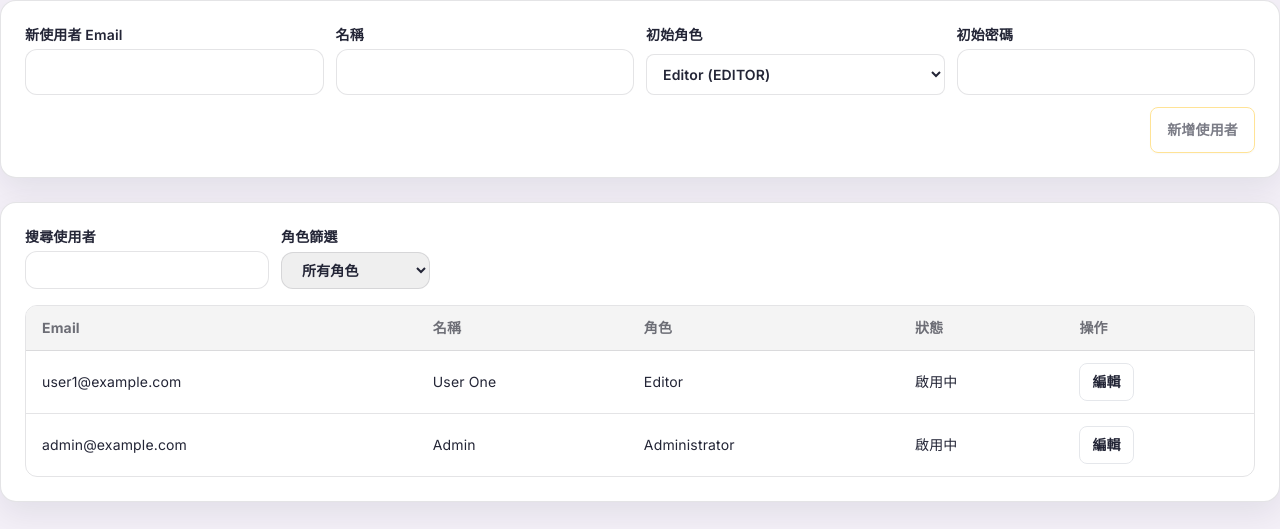
Test: UserAdminClient › 依姓名／Email 搜尋並依角色篩選列表
Step 1. Type "admin@" into the search field labelled "搜尋使用者" → (147, 270), box 25,251 -> 269,289
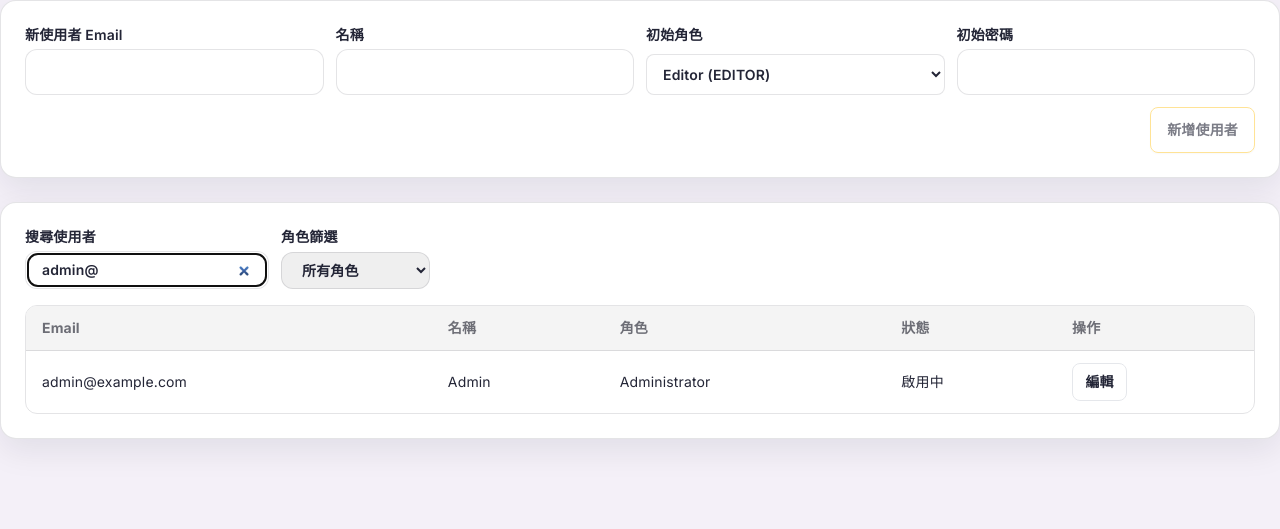
Expected: the text "admin@example.com" is shown, 26,350 -> 432,413
Now the text "user1@example.com" is gone
Step 2. Clear the search field labelled "搜尋使用者" → (147, 270), box 25,251 -> 269,289
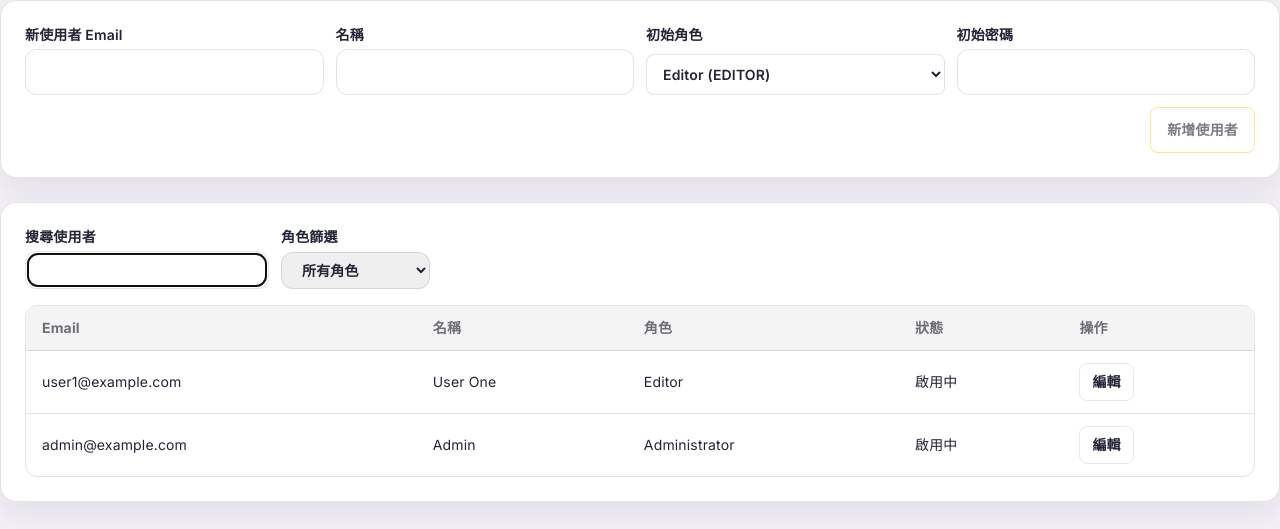
Step 3. Select "Editor" in the dropdown labelled "角色篩選" → (356, 270), box 281,252 -> 430,289
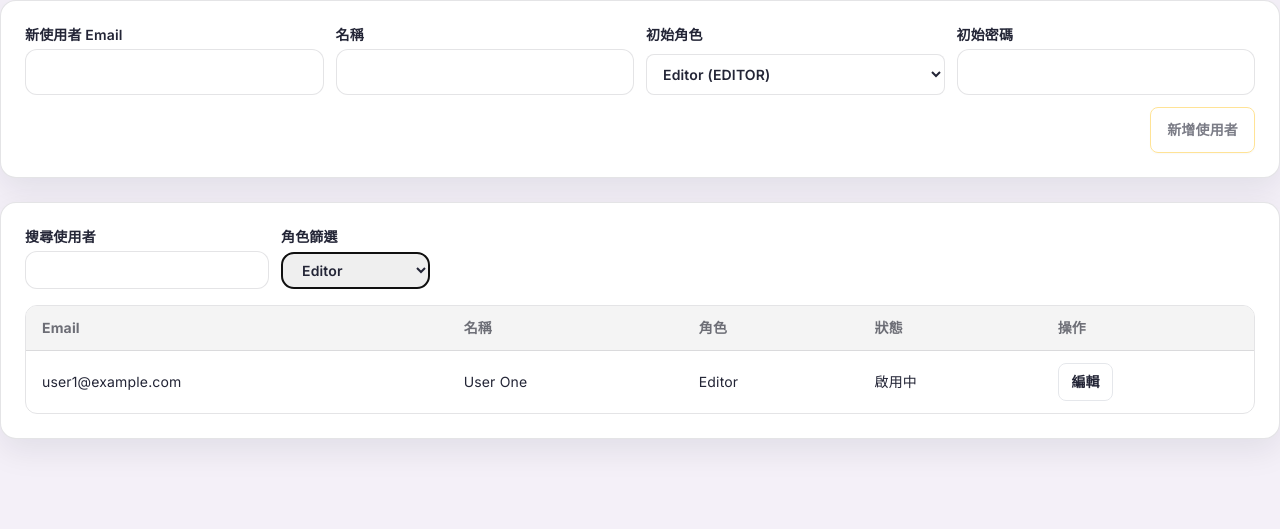
Now the text "user1@example.com" is shown, box 26,350 -> 448,413
Now the text "admin@example.com" is gone
